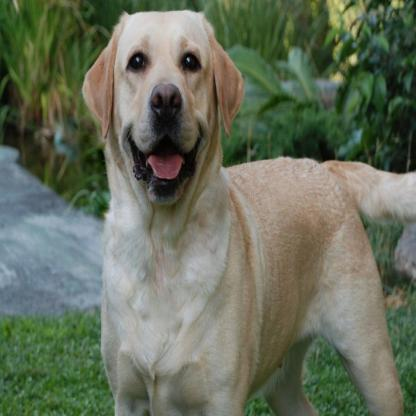Rotveler: (83, 6, 416, 416)
